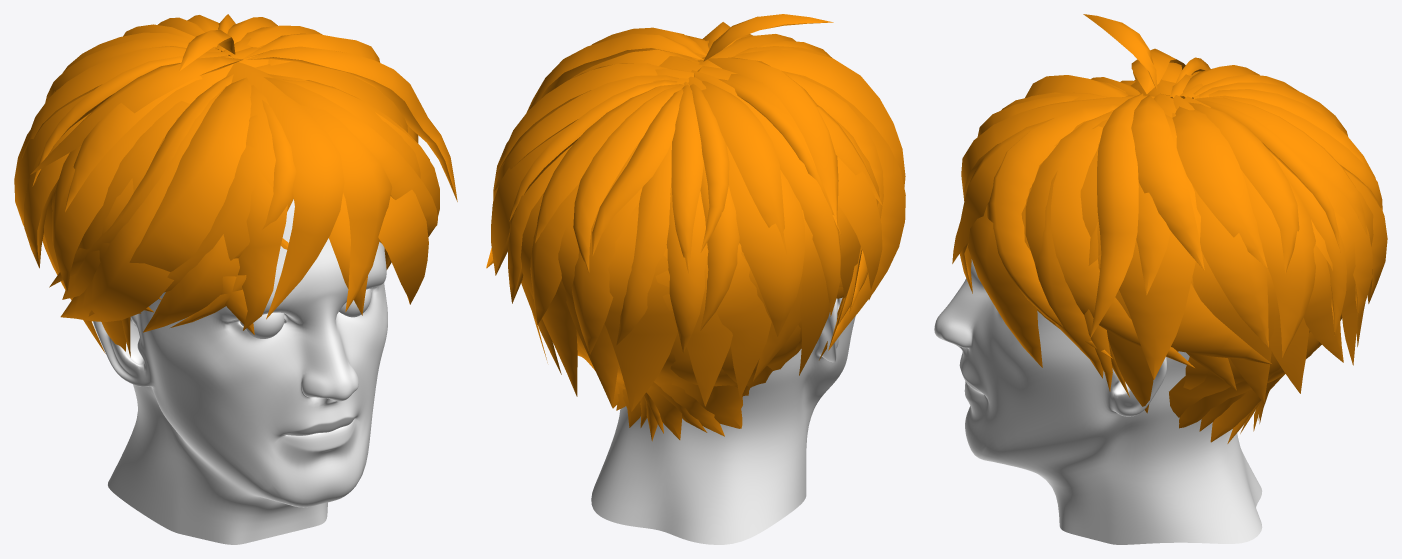
Rendered from fullfigure4.glb.
The picture shows the model from 3 angles, left to right: view 1: azimuth 30°, elevation 25°; view 2: azimuth 150°, elevation 25°; view 3: azimuth 270°, elevation 25°; orthographic projection. The views are drawn at different scales.
Parts seen in each view (by area): view 1: Object_2, Cube, Sphere; view 2: Object_2, Cube; view 3: Object_2, Cube.
Part boxes in pixels (left/top/right/bottom): Object_2: left=14, top=14, right=457, bottom=357; Cube: left=93, top=199, right=387, bottom=544; Sphere: left=240, top=288, right=371, bottom=338; Object_2: left=486, top=14, right=905, bottom=441; Cube: left=591, top=297, right=855, bottom=544; Object_2: left=952, top=14, right=1387, bottom=443; Cube: left=934, top=259, right=1262, bottom=544.
Size of the model in its own units: 1.58 by 1.99 by 1.76.
